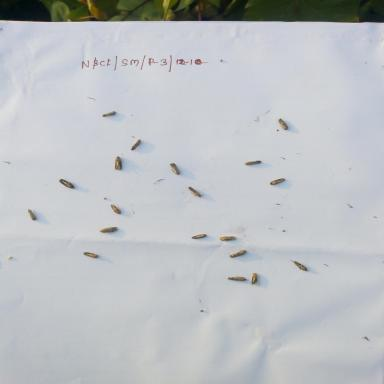pbw: (290, 258, 310, 274), (96, 224, 120, 236), (57, 176, 76, 190), (78, 249, 104, 259), (276, 116, 292, 132), (167, 161, 183, 177), (128, 137, 145, 152), (106, 202, 124, 216), (187, 186, 205, 200), (229, 247, 246, 261), (112, 154, 124, 173), (249, 271, 262, 288), (219, 232, 238, 243), (190, 231, 208, 242), (227, 273, 248, 282), (267, 176, 285, 186), (26, 208, 39, 221), (243, 158, 263, 166), (100, 110, 118, 118)
